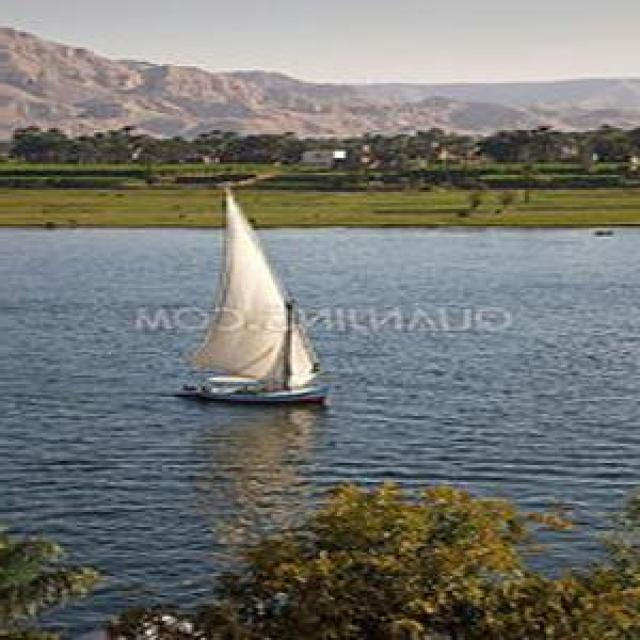sailboat: (168, 170, 328, 408)
